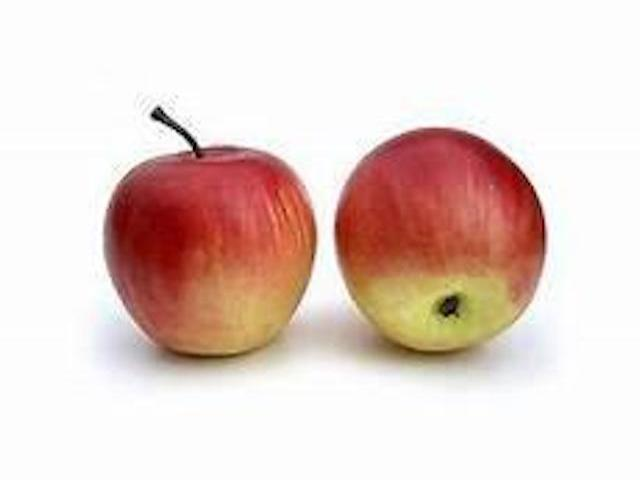apple: (98, 97, 319, 363), (332, 120, 553, 357)
